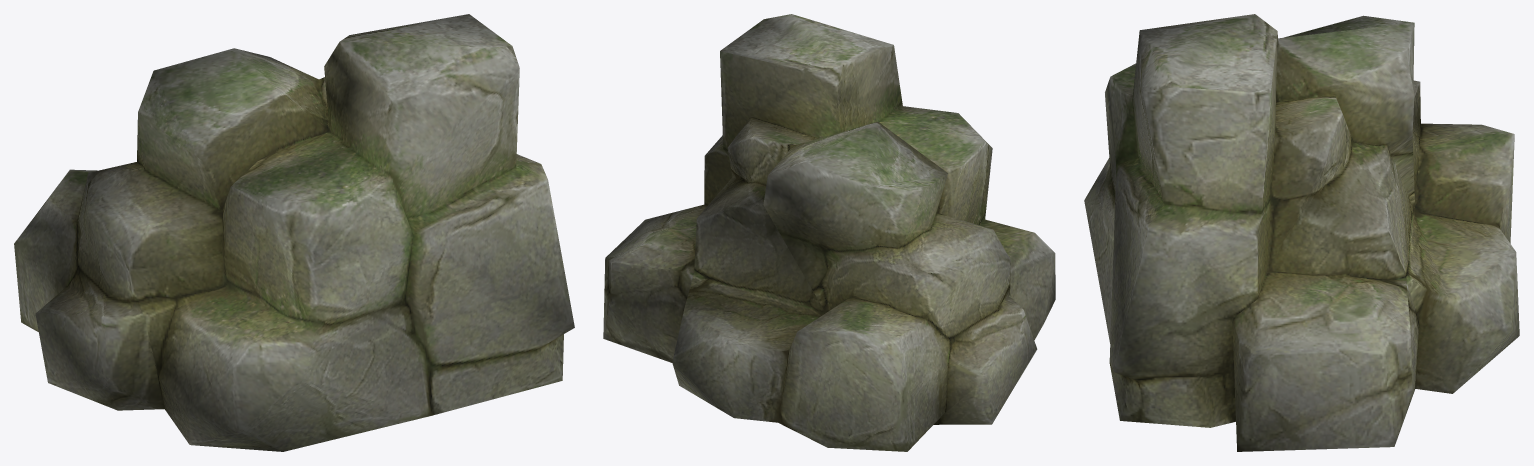
Rendered from GongYong_SuiShi_8.fbx.
3 renders of one model, left to right at view 1: azimuth 30°, elevation 25°; view 2: azimuth 150°, elevation 25°; view 3: azimuth 270°, elevation 25°, orthographic. The views are drawn at different scales.
Parts seen in each view (by area): view 1: GongYong_SuiShi_8; view 2: GongYong_SuiShi_8; view 3: GongYong_SuiShi_8.
Boxes of the visible parts, x1,y1,x2,y2 form: GongYong_SuiShi_8: (14, 14, 574, 451); GongYong_SuiShi_8: (603, 14, 1055, 451); GongYong_SuiShi_8: (1084, 14, 1519, 451).
Bounding box in the file's own units: 151 × 107 × 123.
